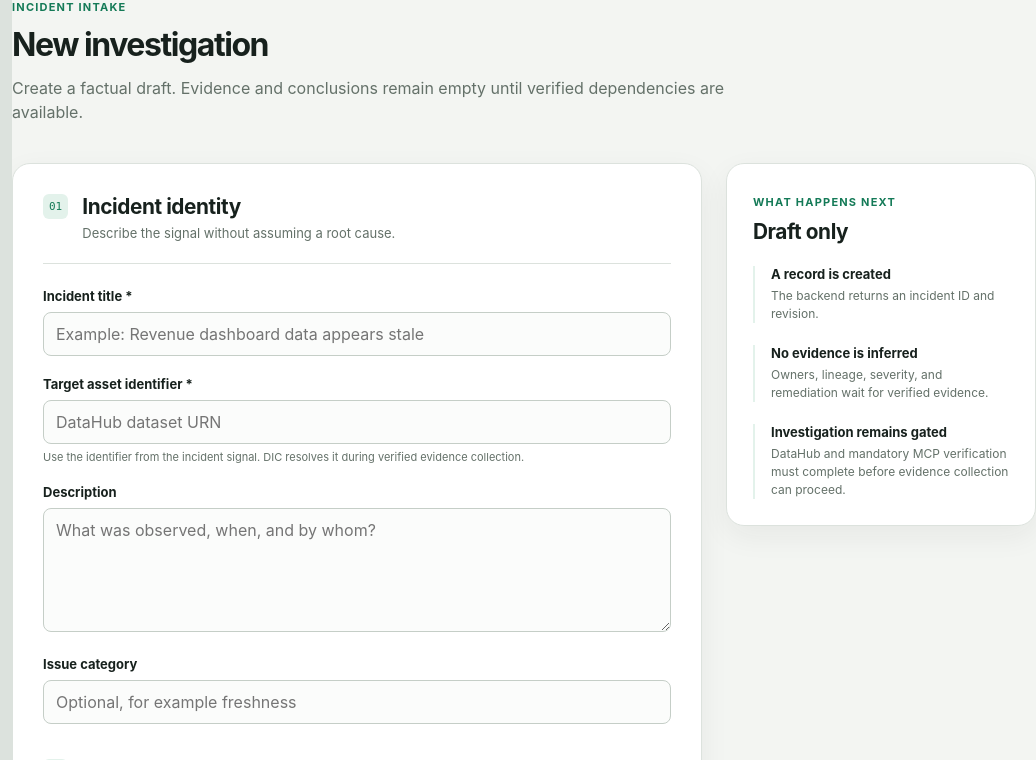
Test: new investigation › renders backend CONFLICT with request ID
Type "Valid title" into the field labelled "Incident title *" at (357, 334), box [43,312,671,356]
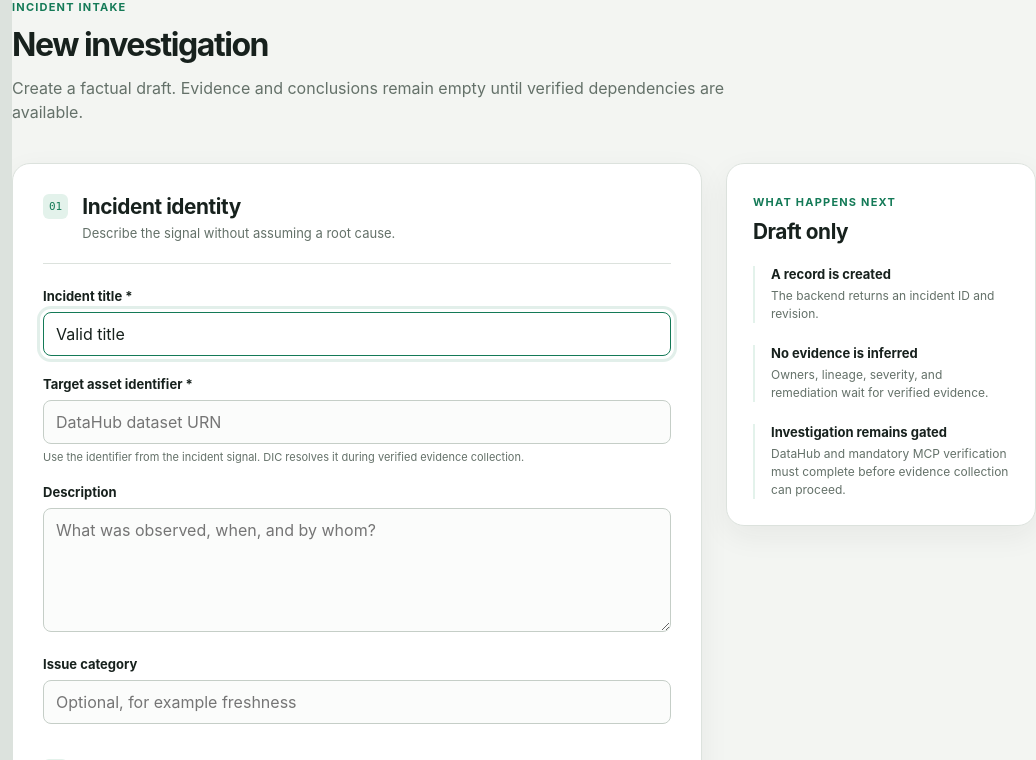
Type "asset:1" into the field labelled "Target asset identifier *" at (357, 422), box [43,400,671,444]
(page scrolled)
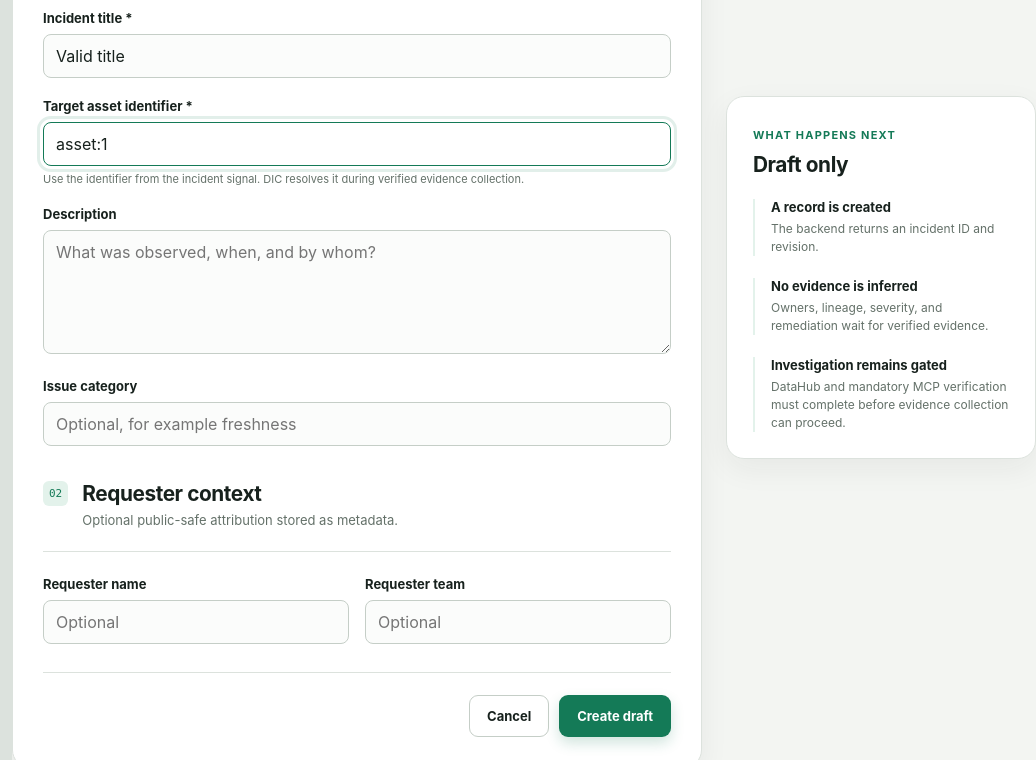
Click the button "Create draft" at (615, 716), box [559,694,671,736]
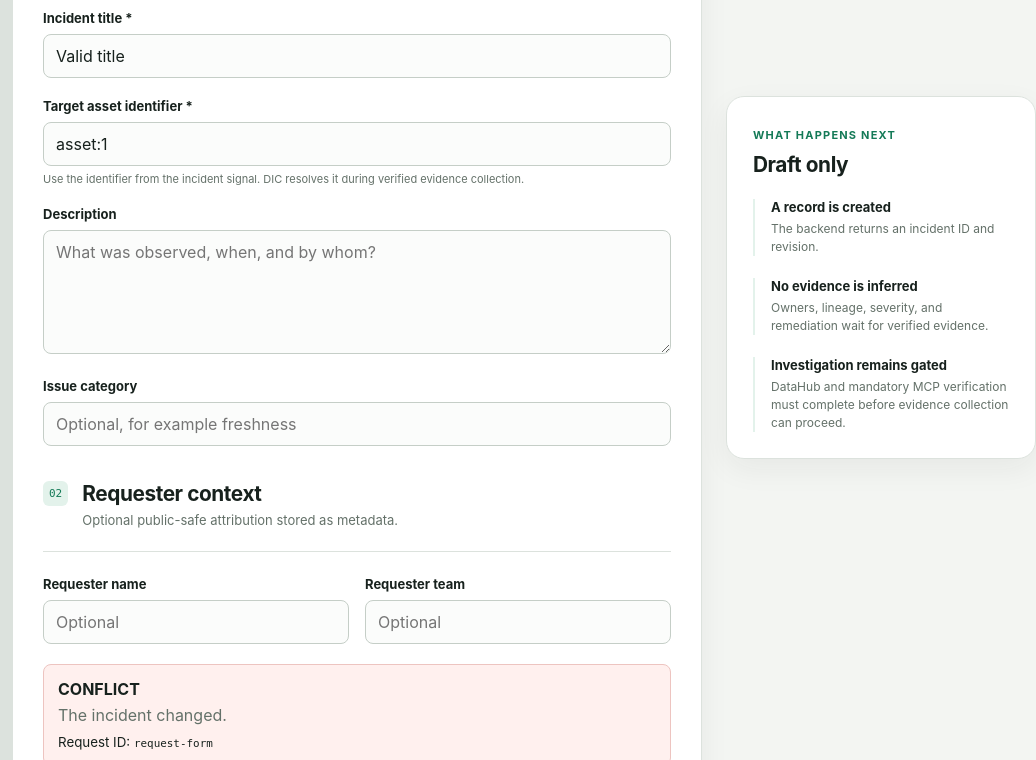
expect the message shows "The incident changed.": met, box [58,704,227,724]
expect the text "request-form" is shown: met, box [134,737,213,750]
